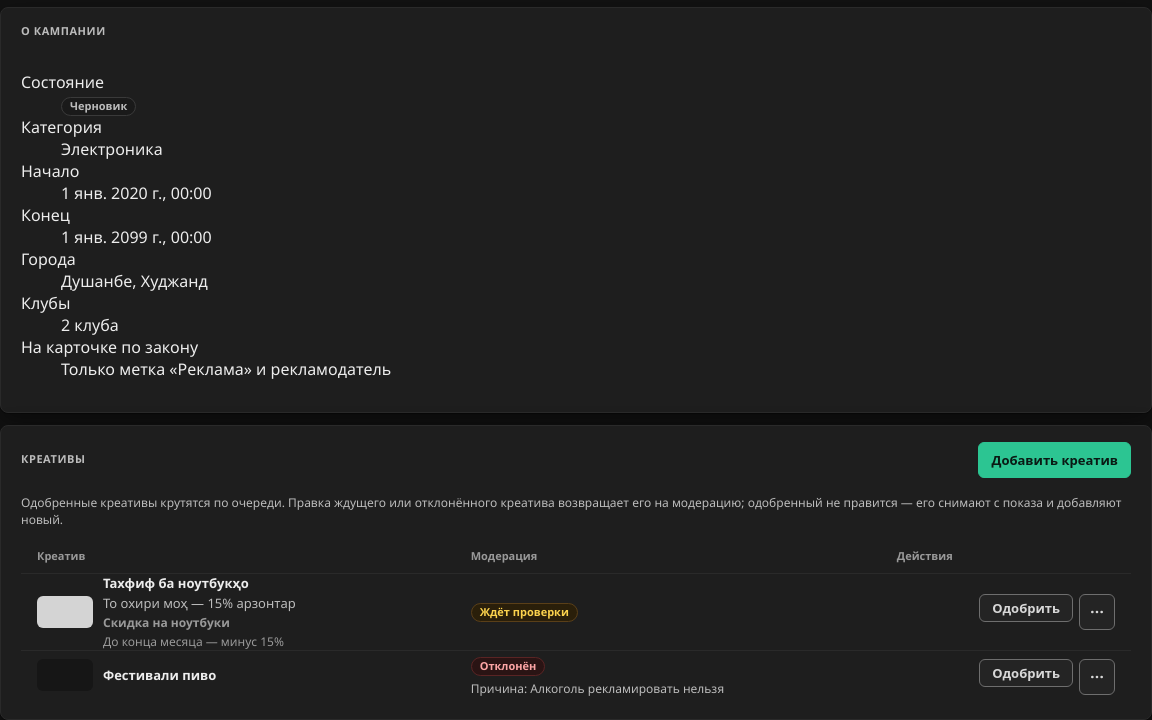
Scenario: AdCampaignPage › отказ требует причину и отправляет её без отметок
(page scrolled)
Check: the text "Тахфиф ба ноутбукҳо" is shown, box [103,574,249,592]
Click the button named "Ещё действия": click(1097, 612) [1079,594,1115,630]
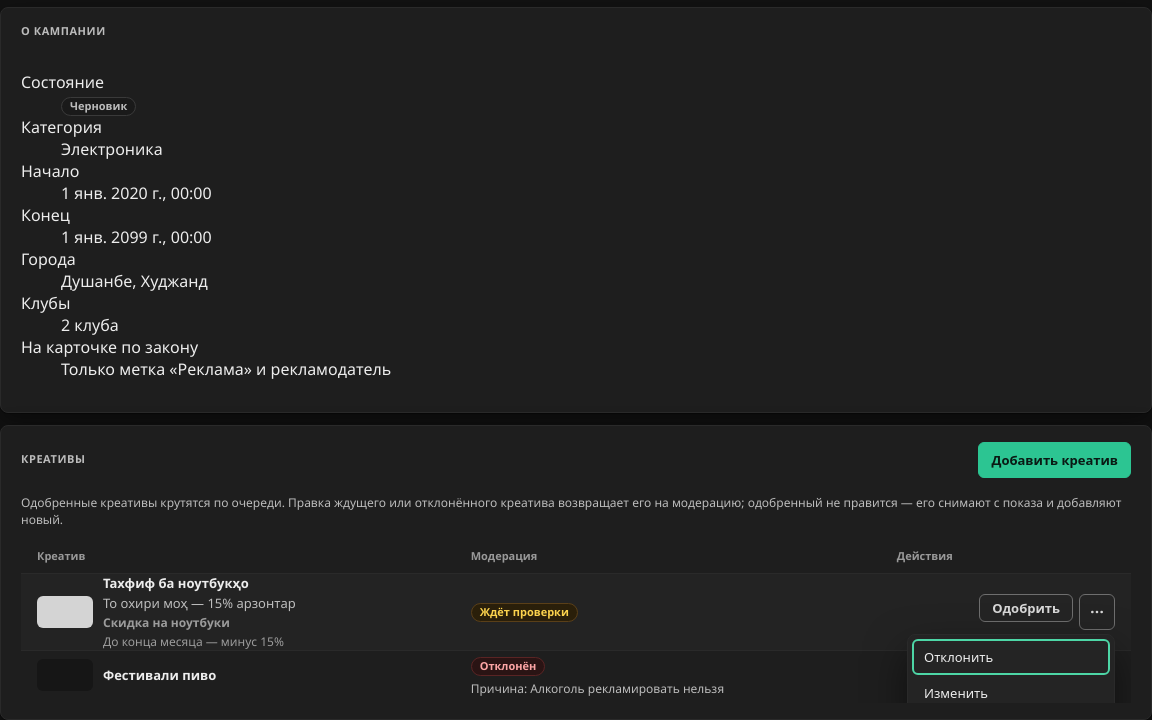
Click the menu item "Отклонить": click(1011, 657) [912,639,1110,675]
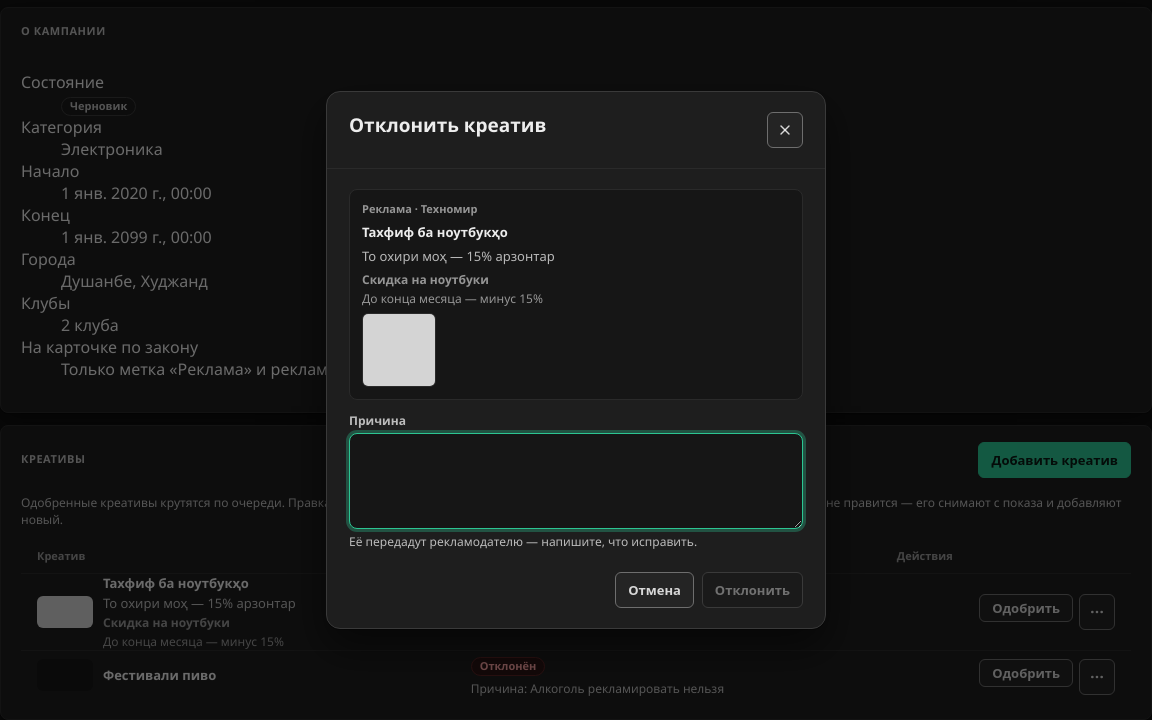
Check: the button "Отклонить" is disabled, box [702,572,803,608]
In the text box labelled "Причина": (576, 481) [349,433,803,529], type "  На картинке логотип другого клуба "
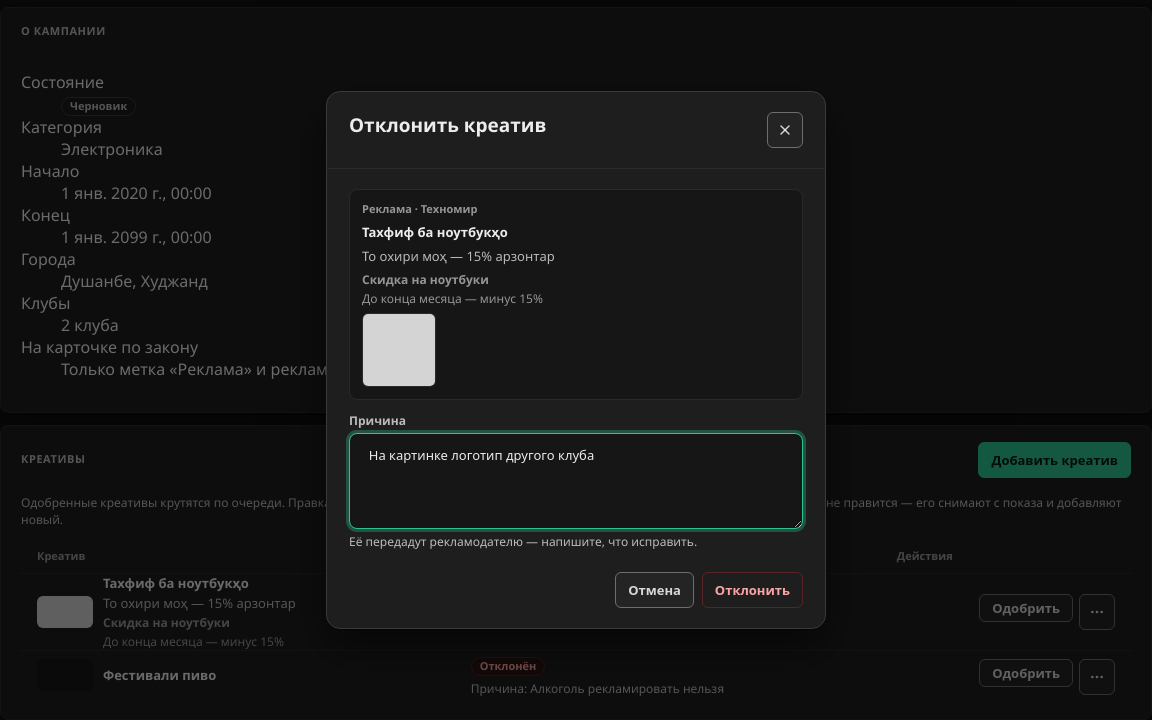
Click the button "Отклонить": click(752, 590) [702,572,803,608]
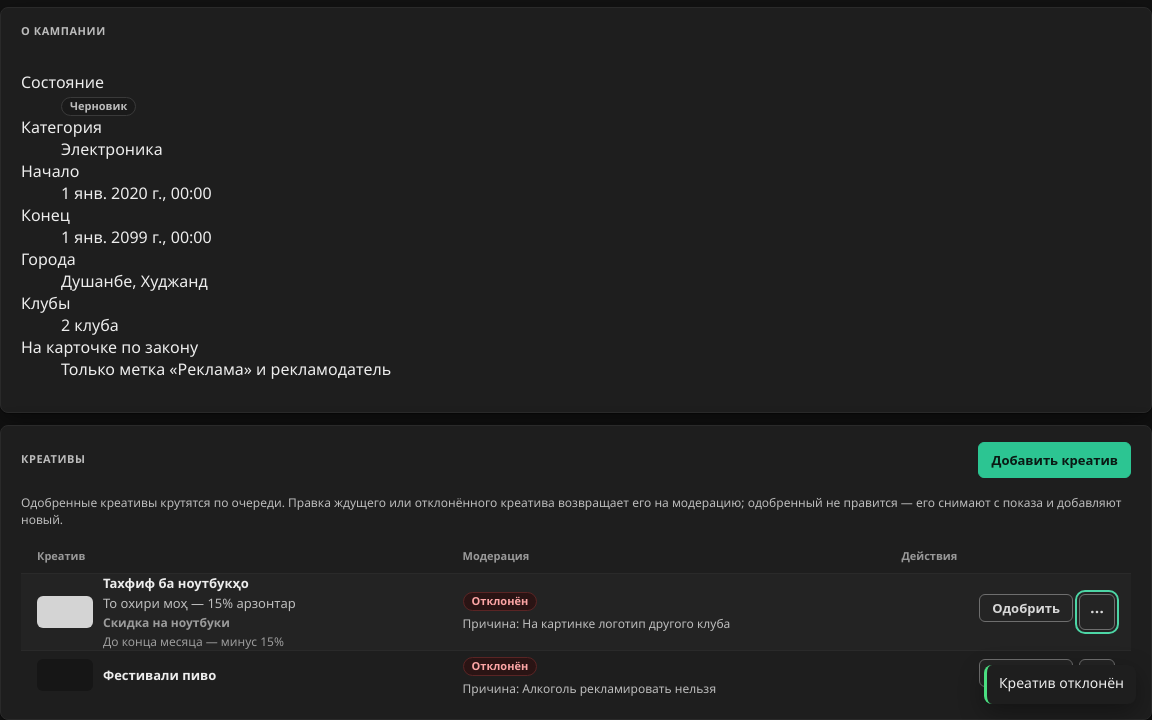
Check: the text "Причина: На картинке логотип другого клуба" is shown, box [463,615,730,632]
